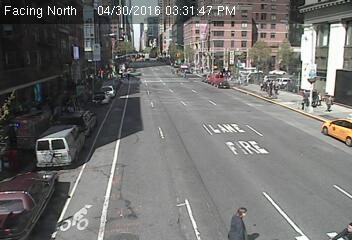neg: (177, 86, 212, 133), (123, 90, 149, 124), (89, 110, 109, 137), (58, 127, 76, 151)
pos: (228, 204, 255, 239), (322, 90, 338, 111)
